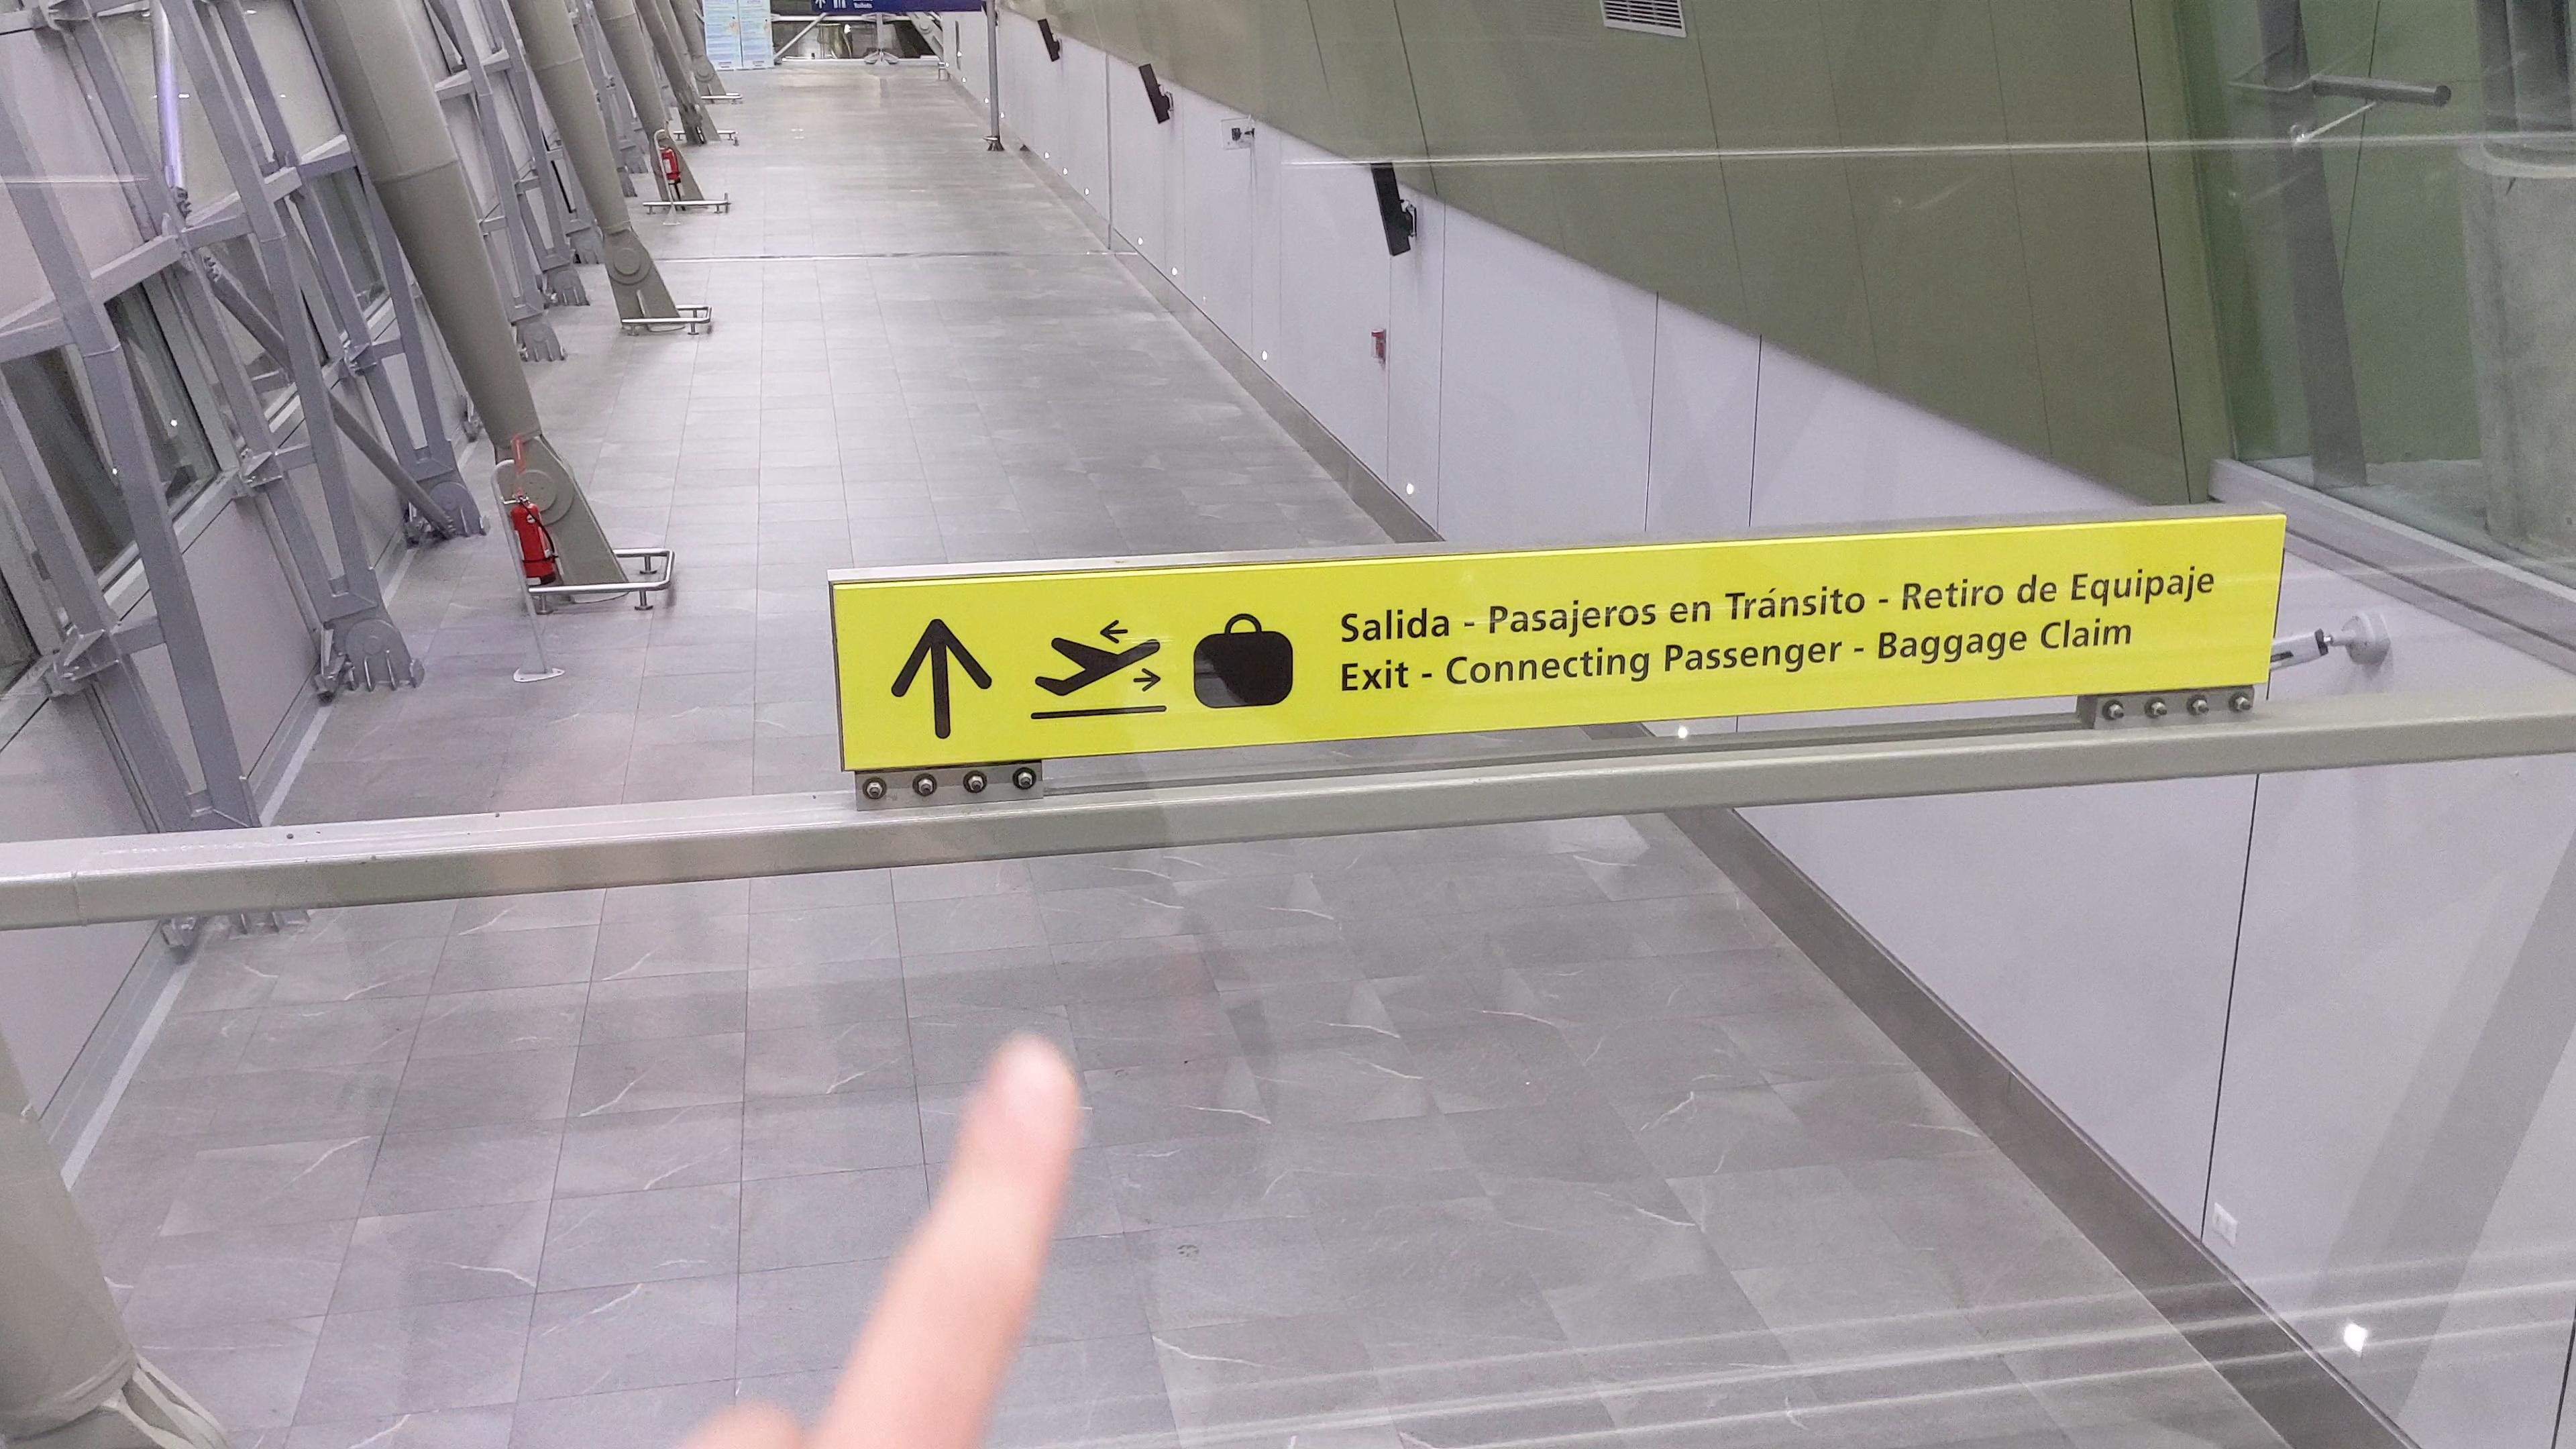airplane symbol: (1033, 616, 1164, 701)
baggage claim: (1191, 612, 1297, 713)
bathrooms: (832, 0, 847, 9)
fire-extinguisher: (506, 488, 559, 582), (660, 145, 681, 188)
up arrow: (888, 614, 996, 741), (814, 0, 828, 9)
